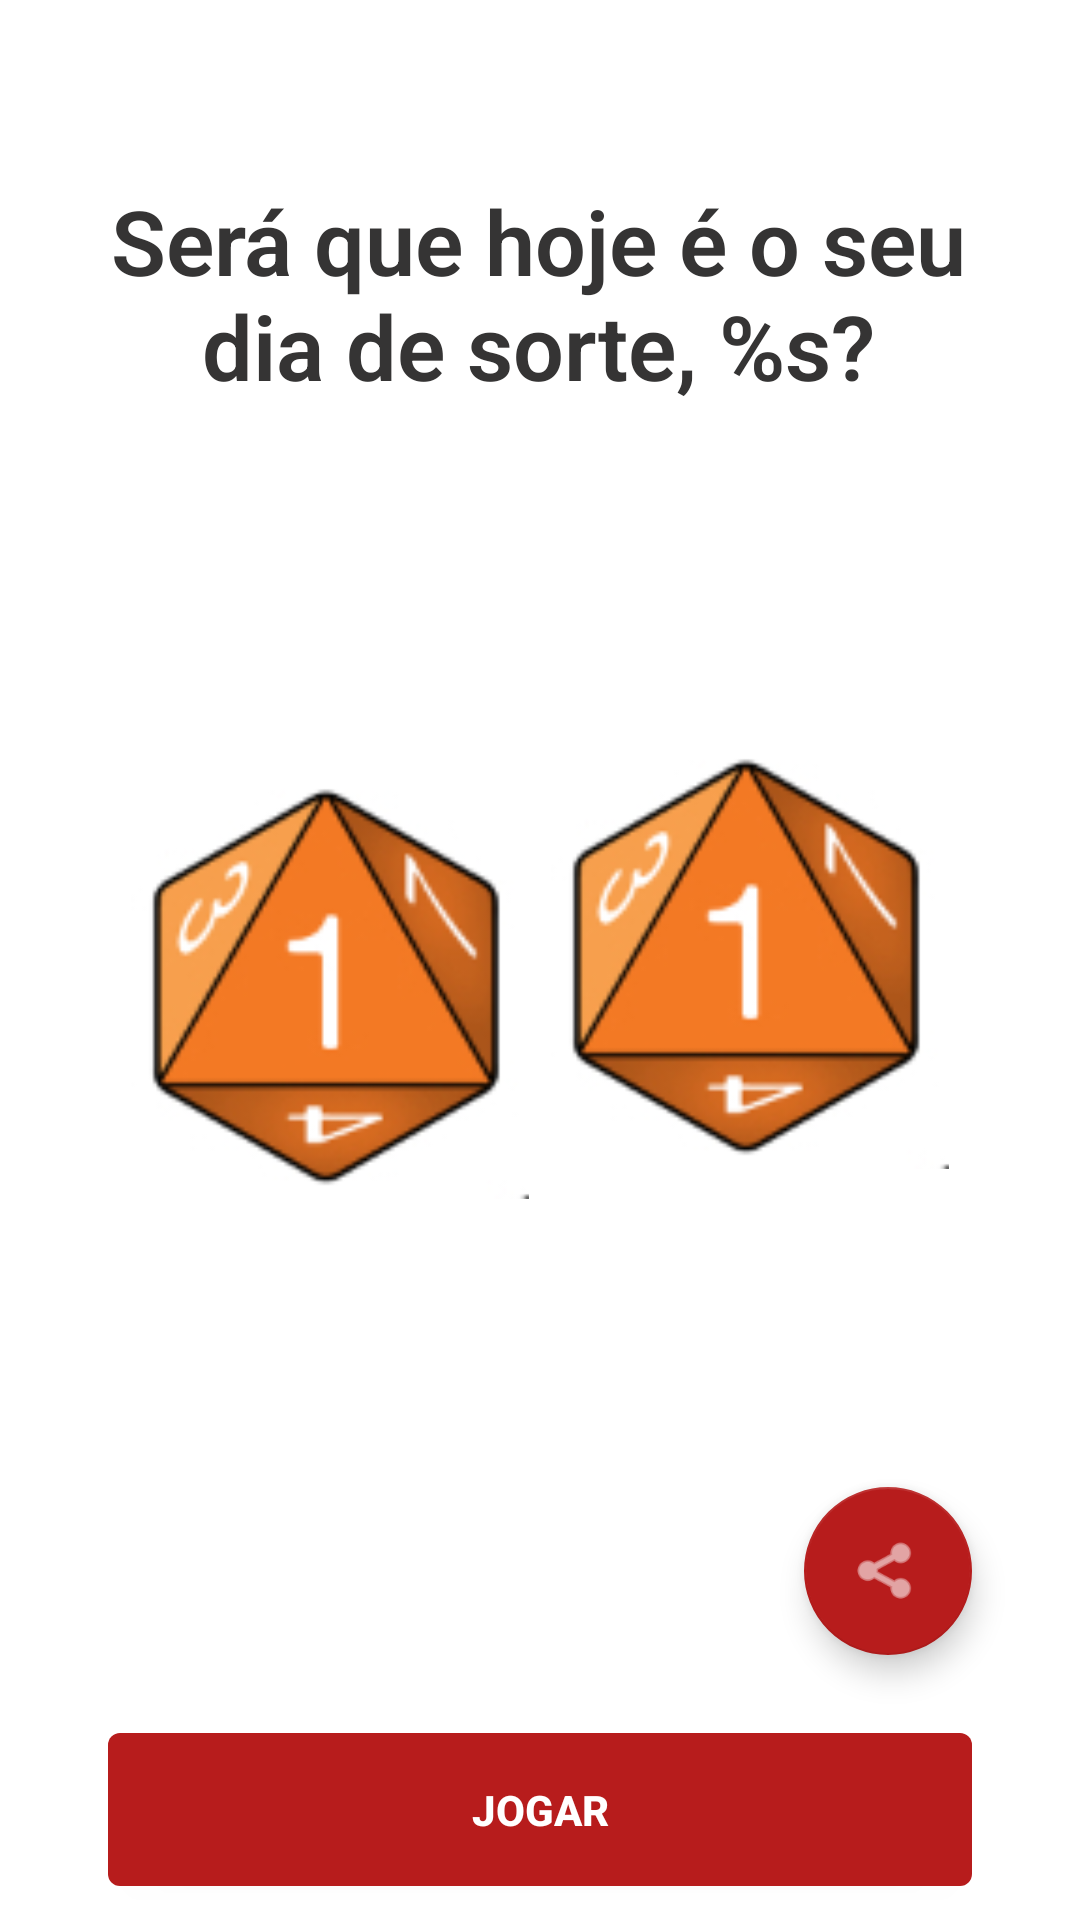

Screen size 1080 × 1920. Icon name, then its center in pixels as (x,y):
share: (888,1571)
